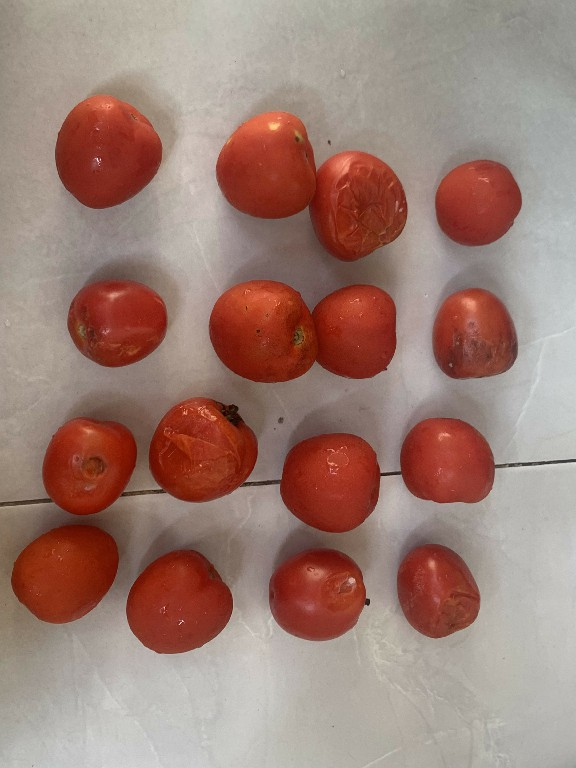NG: (206, 101, 319, 227), (145, 388, 256, 502), (309, 147, 411, 265), (63, 269, 180, 371), (386, 539, 495, 645), (261, 545, 375, 645), (36, 408, 143, 509), (427, 280, 526, 388)
OK: (48, 85, 176, 220), (125, 545, 246, 664), (275, 424, 392, 541), (206, 271, 321, 389), (3, 518, 122, 627), (395, 407, 501, 512), (307, 279, 406, 391), (430, 148, 528, 257)
